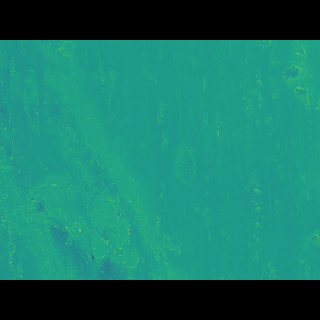Loch: (0, 69, 187, 248)
